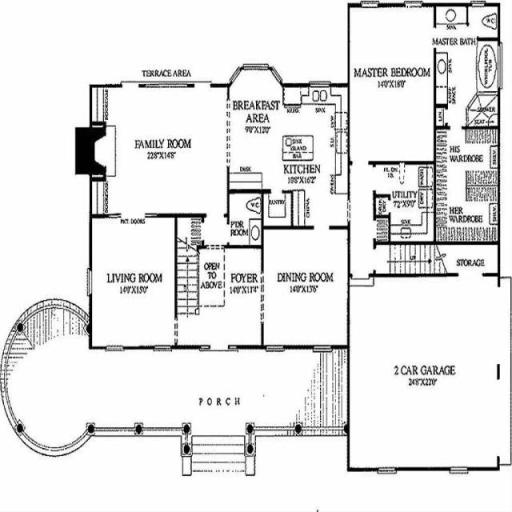Room: (101, 91, 223, 214), (348, 10, 426, 152), (261, 235, 345, 338)
bathroom: (435, 14, 498, 119)
garage: (352, 284, 505, 464)
hall: (98, 224, 178, 335)
kitchen: (232, 80, 342, 226)
porch: (16, 344, 350, 440)
